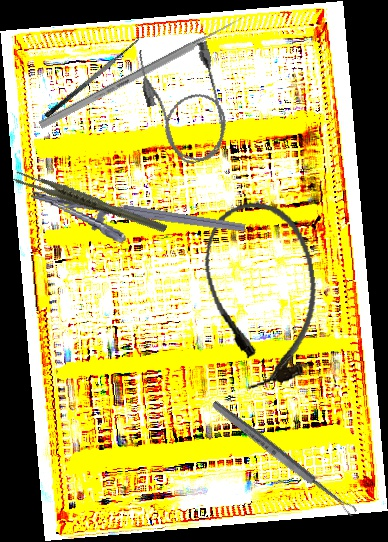Cannula: (195, 193, 331, 394), (132, 33, 237, 171)
Needle Holder: (26, 188, 246, 263)
Pusher: (38, 13, 248, 130)
Spatula Surgical: (37, 31, 144, 119)
Surgical Spoon: (209, 398, 359, 519)
Tissue Forceps: (11, 146, 169, 259)
